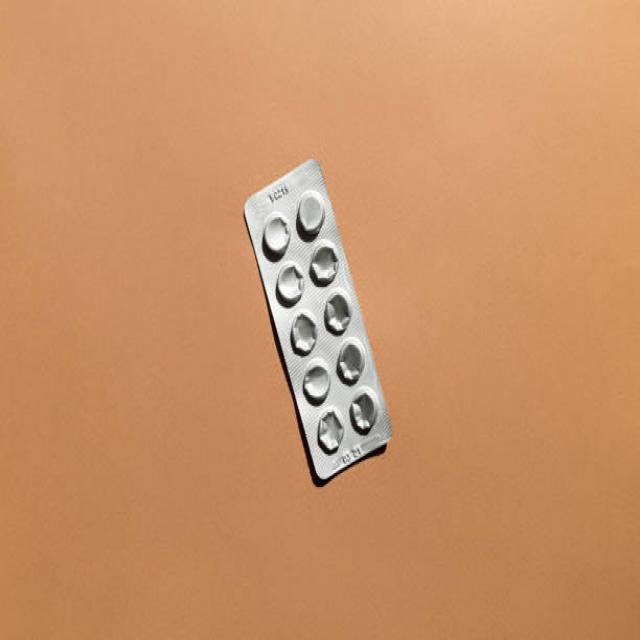Empty: (271, 263, 309, 307), (311, 409, 348, 454), (333, 336, 366, 386), (308, 242, 343, 289), (347, 387, 380, 435), (319, 290, 353, 336), (286, 312, 320, 358), (300, 360, 332, 406)
Pill: (255, 205, 293, 259), (295, 190, 326, 238)
